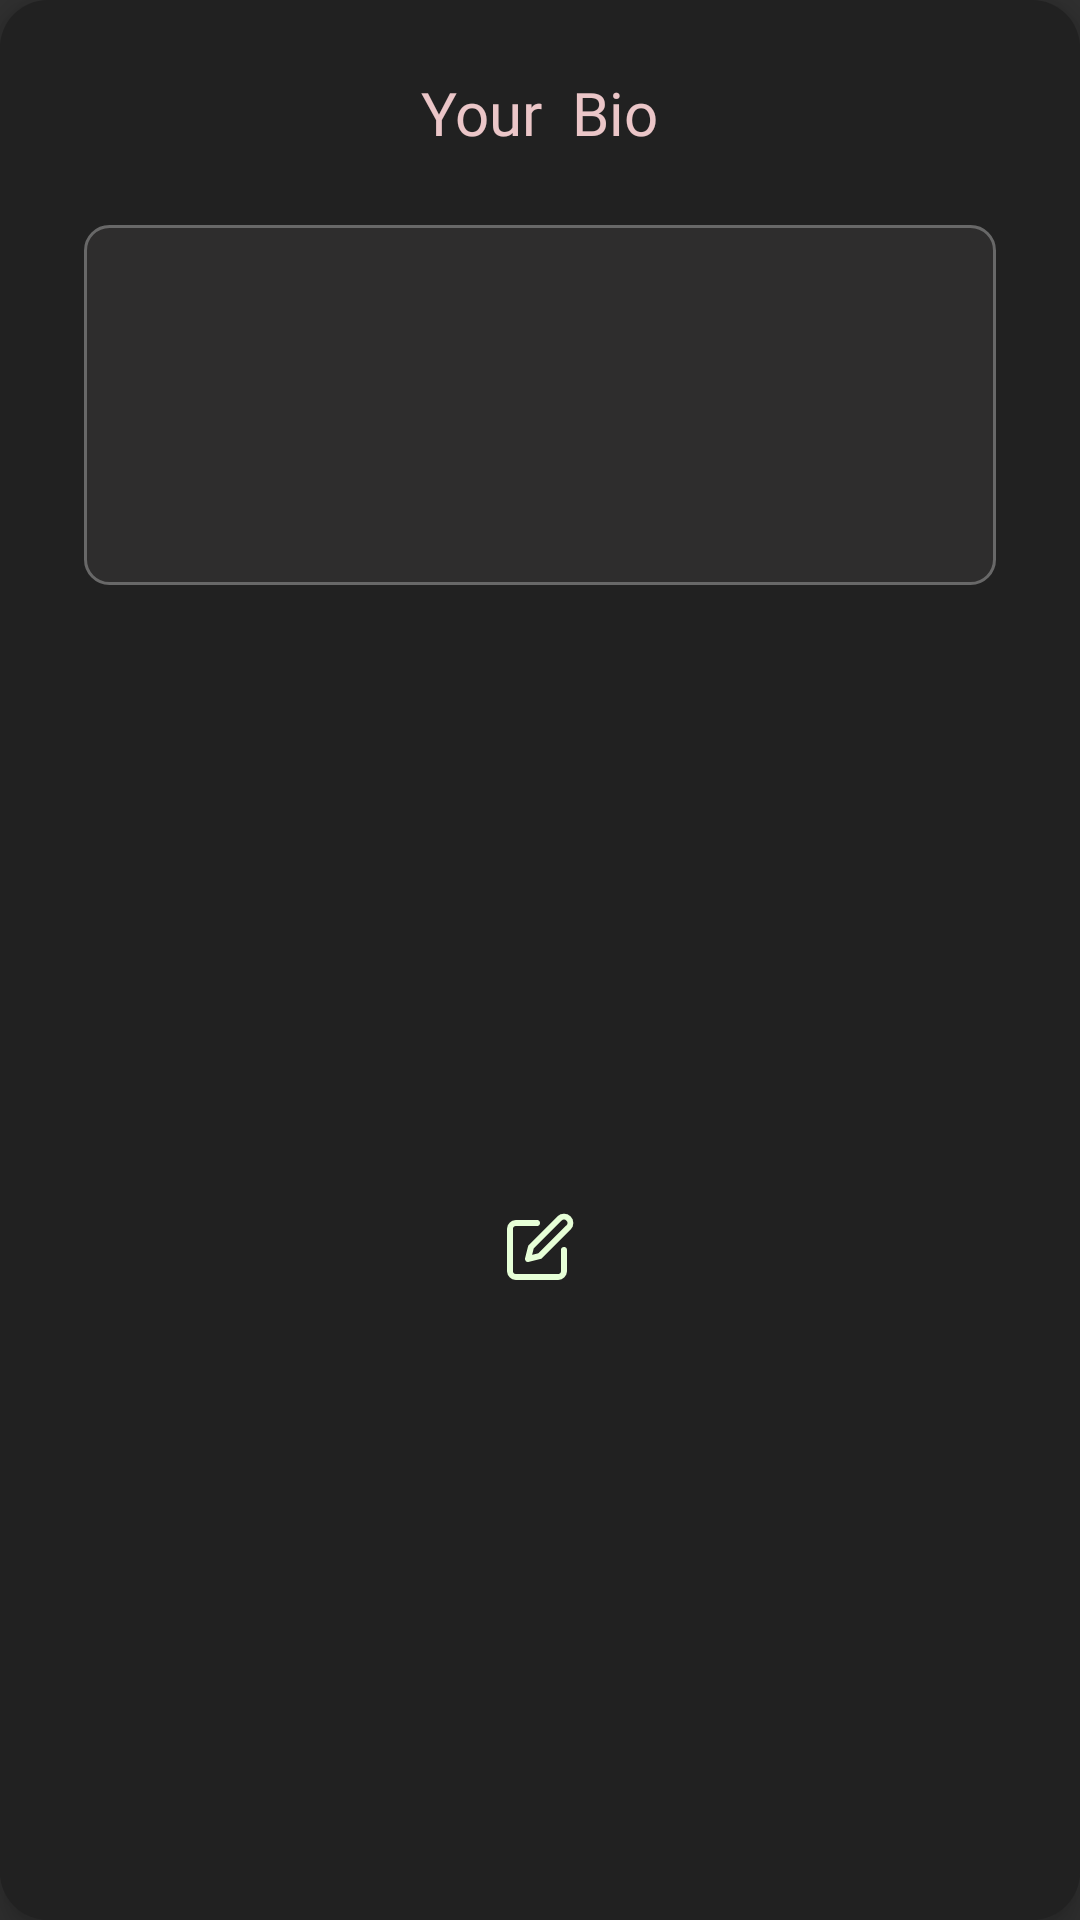

Named icons in this screenshot (1080×1920) and their centers, [x,y]:
update: [540,1246]
